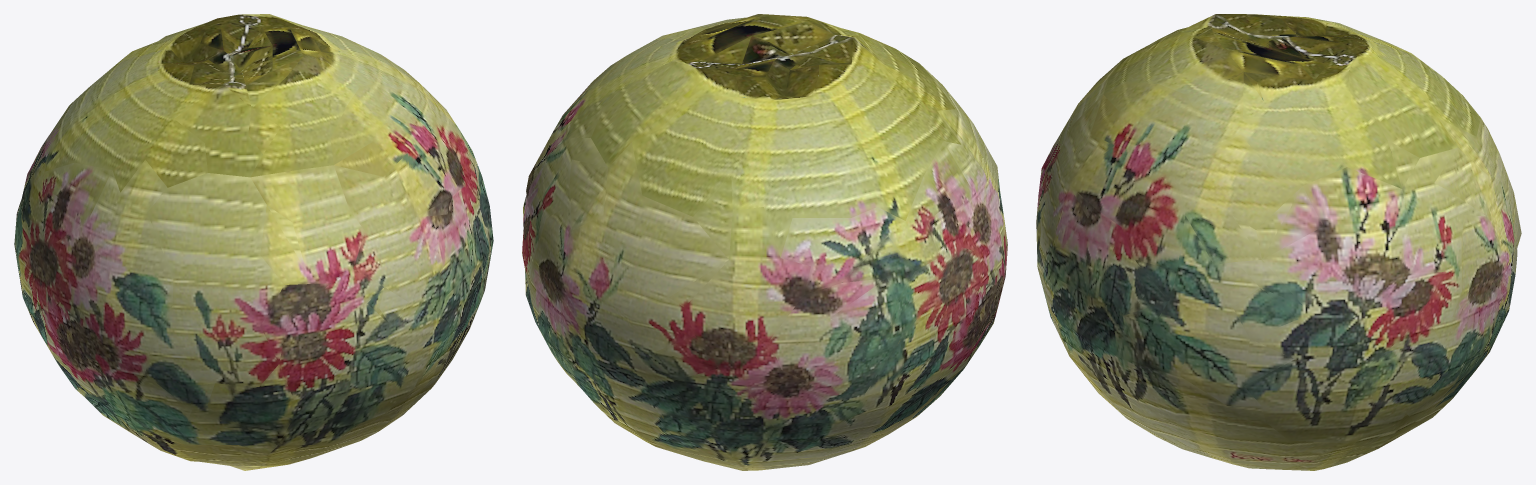
Rendered from AC2 Kaye Flowers2 512.glb.
3 views of the same model, side by side, from view 1: azimuth 30°, elevation 25°; view 2: azimuth 150°, elevation 25°; view 3: azimuth 270°, elevation 25° (orthographic). The views are drawn at different scales.
Size of the model in its own units: 992 by 939 by 1000.
Materials: 1 (1 with a texture image).
